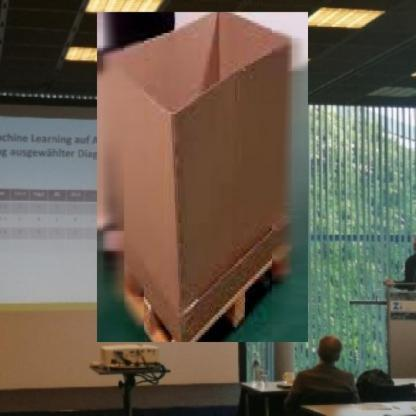-: (94, 7, 312, 348)
